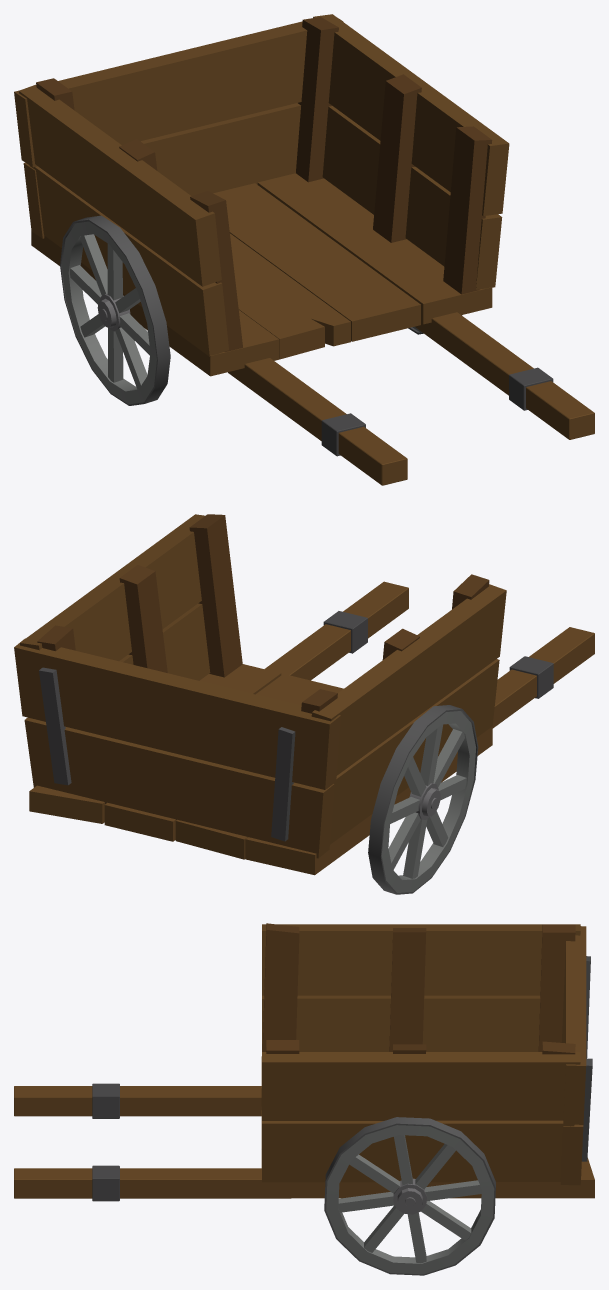
The model's file is WoodenCart_2.fbx.
3 renders of one model, top to bottom at view 1: azimuth 30°, elevation 25°; view 2: azimuth 150°, elevation 25°; view 3: azimuth 270°, elevation 25°, orthographic. The views are drawn at different scales.
Parts seen in each view (by area): view 1: WoodenCart_2; view 2: WoodenCart_2; view 3: WoodenCart_2.
Part boxes in pixels (x1,y1,x2,y2): WoodenCart_2: [14, 14, 594, 485]; WoodenCart_2: [14, 514, 594, 894]; WoodenCart_2: [14, 923, 594, 1275].
Bounding box in the file's own units: 107 × 76.11 × 177.
